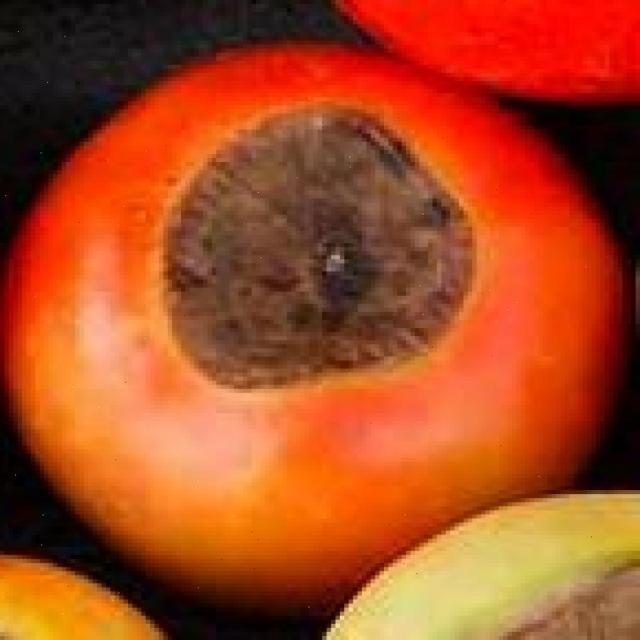Blossom End Rot Fruit: (97, 57, 378, 396)
